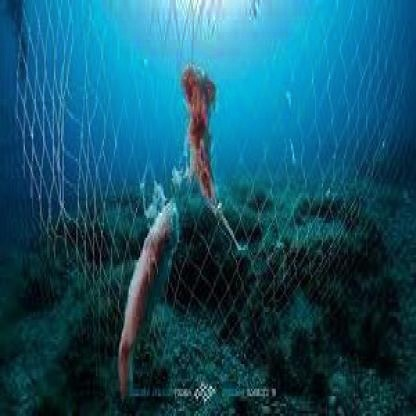net: (18, 5, 394, 371)
